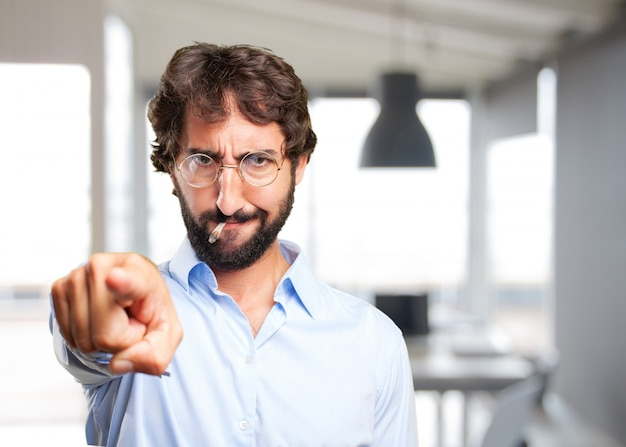cigarette: (206, 218, 227, 244)
